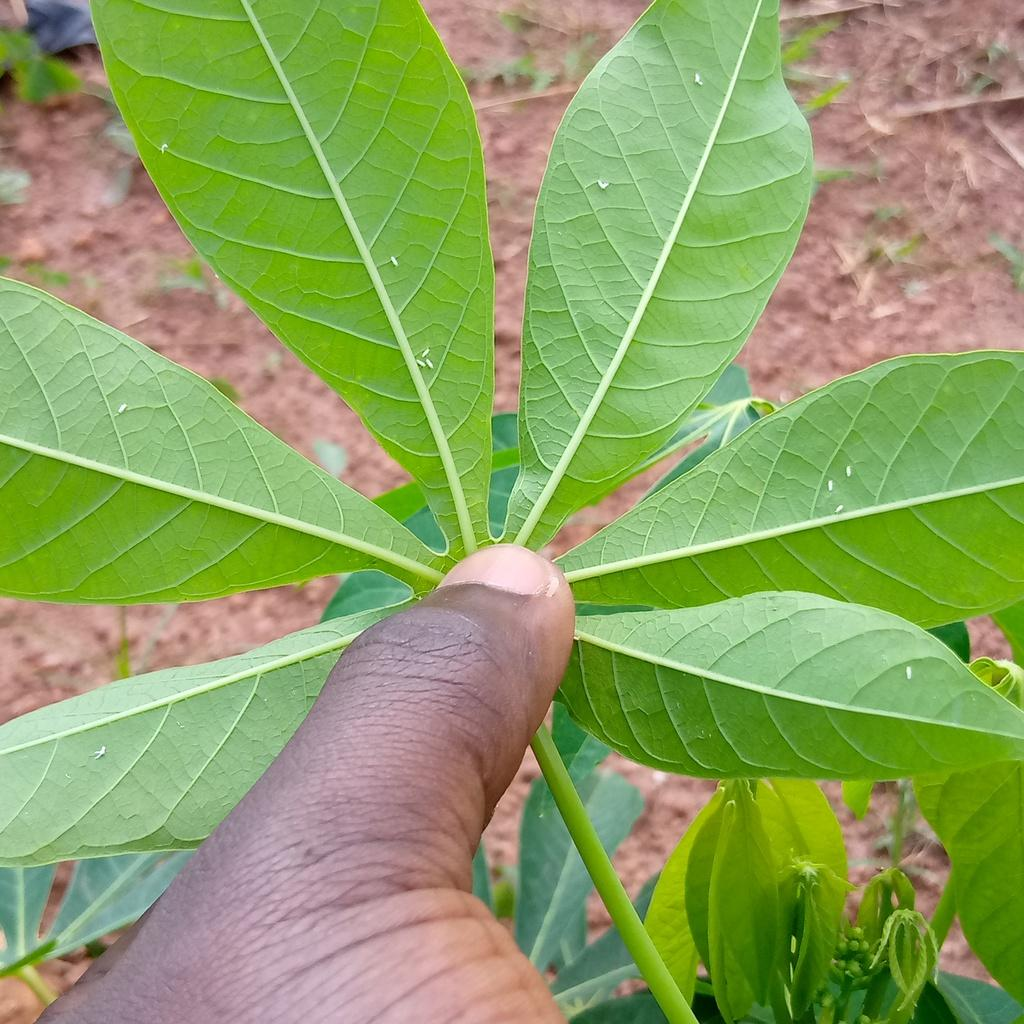adult: (91, 745, 107, 760), (694, 73, 704, 86), (597, 179, 609, 189), (117, 403, 127, 414), (390, 256, 398, 266), (160, 143, 168, 153), (416, 359, 426, 367), (906, 666, 912, 679), (827, 480, 834, 491), (426, 358, 433, 369), (846, 465, 852, 477), (835, 505, 844, 513), (422, 349, 430, 357)
